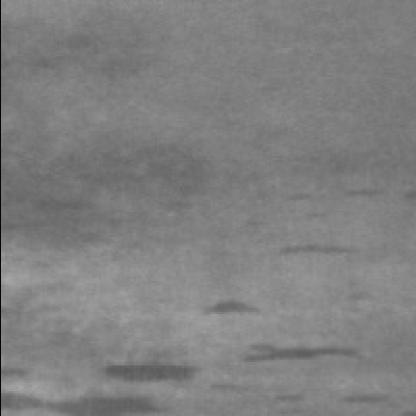inclusion: (13, 29, 144, 85), (6, 183, 140, 237), (275, 179, 395, 225), (79, 347, 206, 387), (204, 362, 306, 408), (235, 332, 362, 368), (272, 231, 362, 264), (196, 284, 260, 320), (324, 380, 398, 410)
